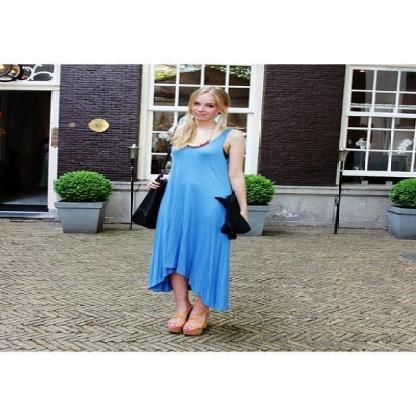bag: (125, 184, 261, 239)
dress: (146, 130, 230, 310)
shoe: (165, 323, 184, 337)
